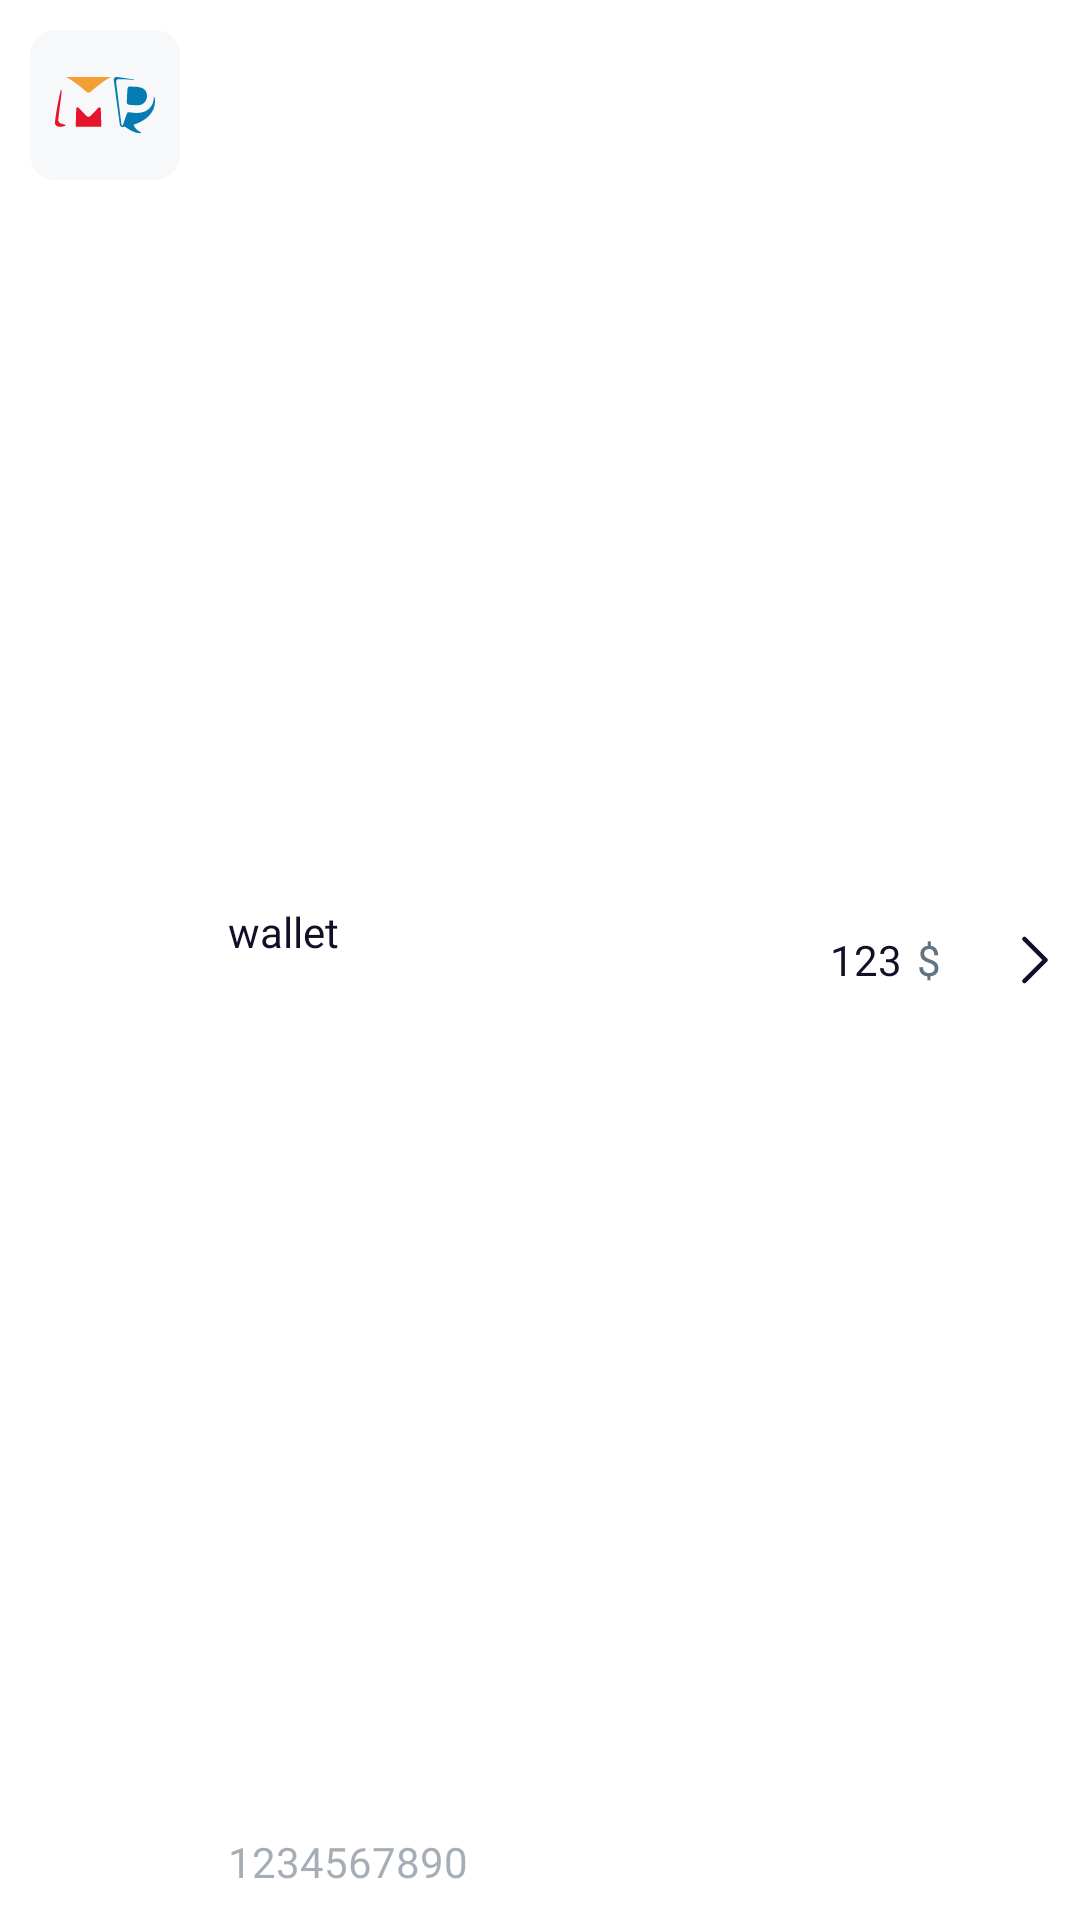

Icons on this 1080 x 1920 Android screen, each with the point to tap as point (x, y):
arrow right: point (1035, 960)
